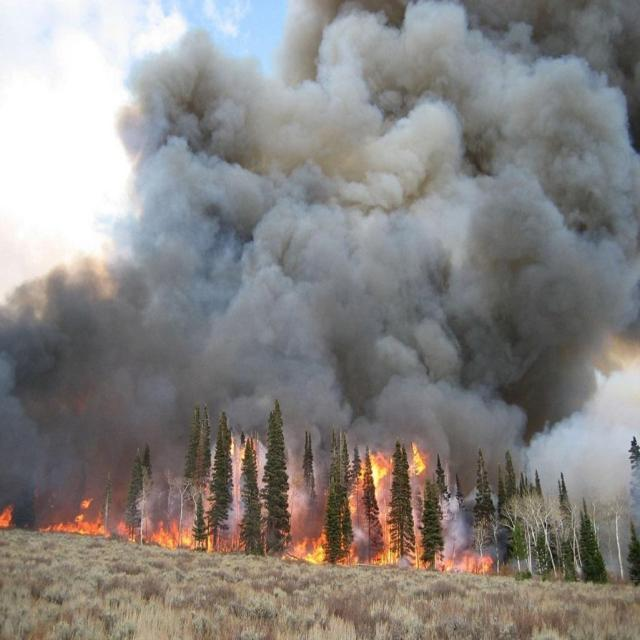Fire: (284, 440, 492, 578), (37, 514, 213, 549)
Smoke: (1, 0, 640, 557)
